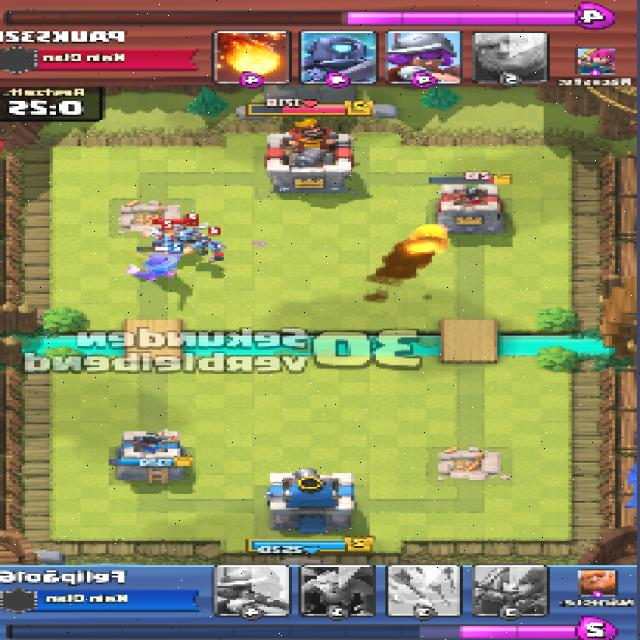Enemy-Minion: (193, 238, 225, 255), (153, 232, 180, 248), (179, 227, 199, 244)
Player-Fireball: (402, 226, 453, 258)
Player-Knight: (130, 251, 185, 283)
